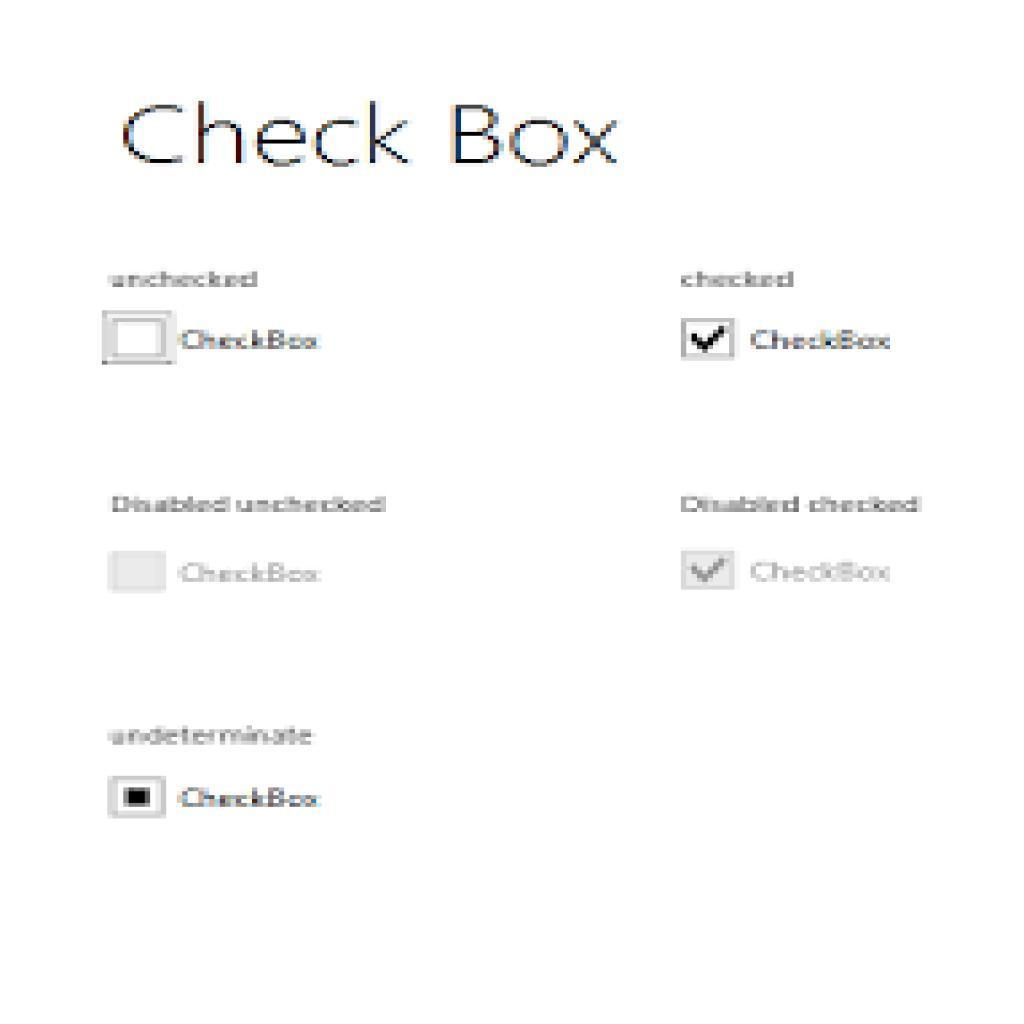checkbox: (109, 316, 174, 368), (108, 773, 170, 820), (106, 550, 164, 597), (679, 320, 738, 362), (681, 551, 740, 591)
